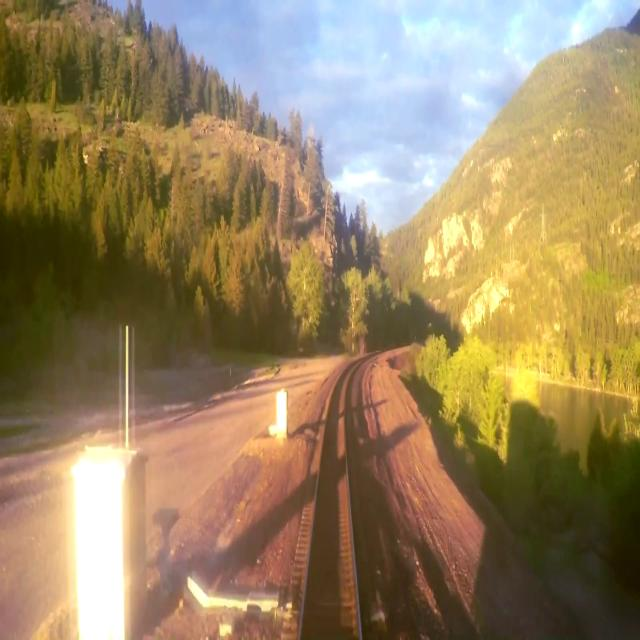rail-track: (302, 366, 358, 639)
